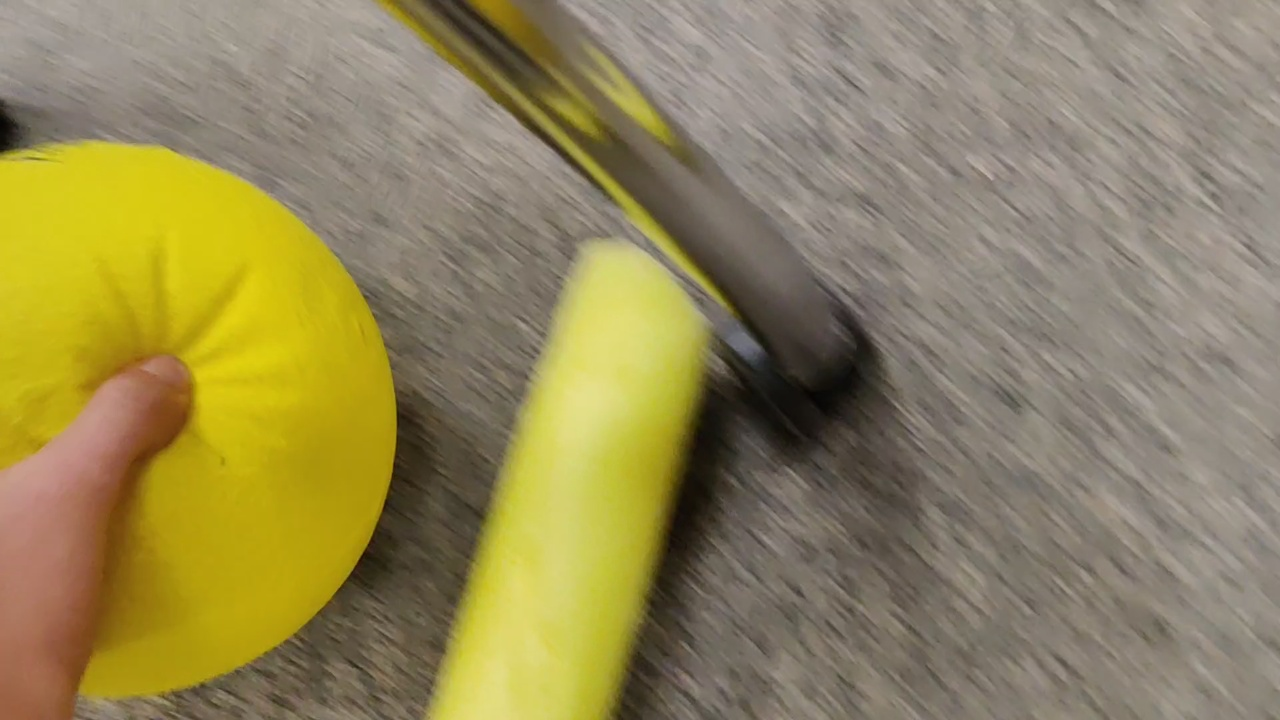Ball: (1, 138, 398, 700)
